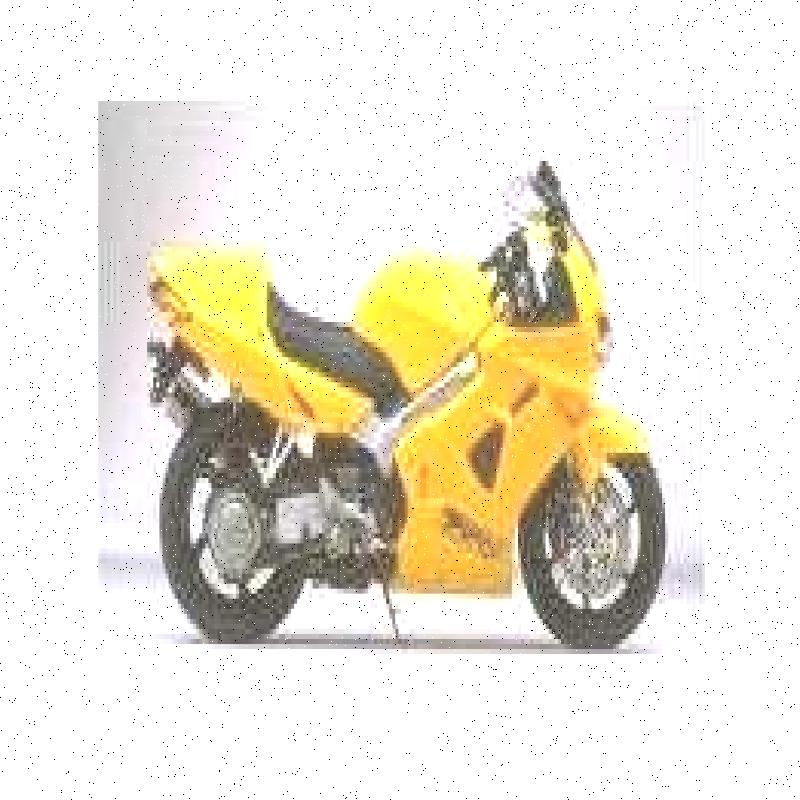bike: (134, 165, 655, 651)
